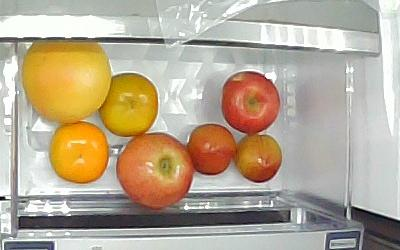apple: (117, 133, 193, 210), (220, 70, 284, 133)
grapefruit: (23, 42, 111, 125)
persimmon: (49, 123, 112, 183), (100, 72, 158, 135)
prune: (187, 123, 236, 176), (236, 134, 283, 184)
